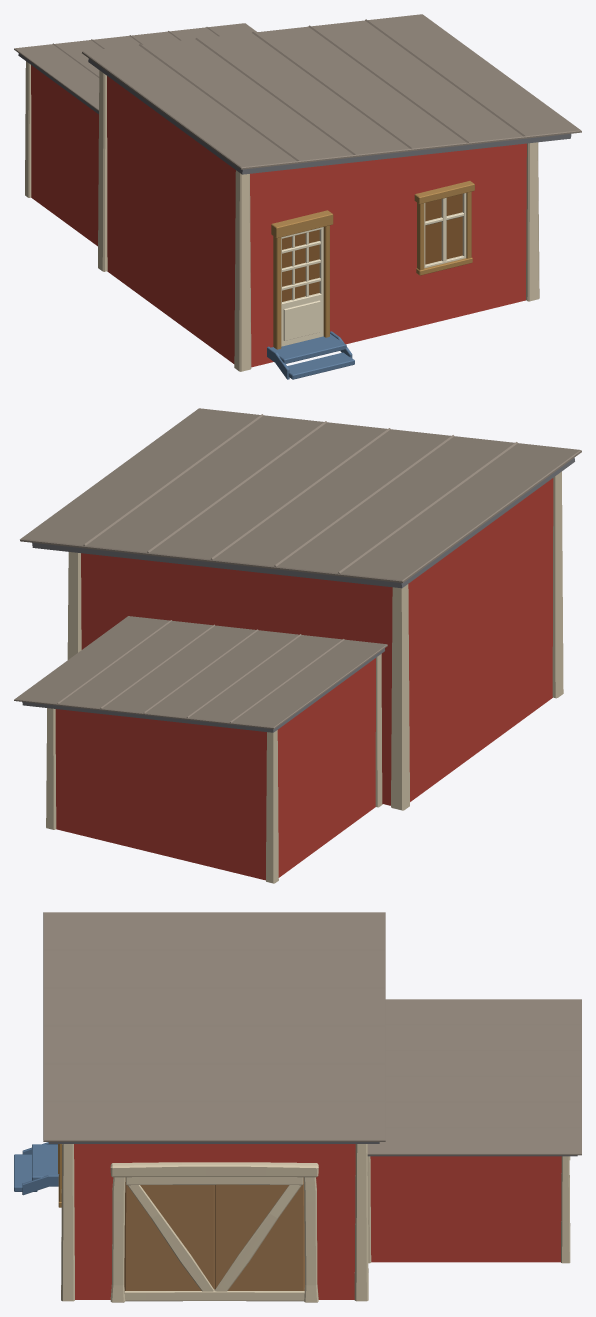
Rendered from garage_a02.gltf.
The picture shows the model from 3 angles, top to bottom: view 1: azimuth 30°, elevation 25°; view 2: azimuth 150°, elevation 25°; view 3: azimuth 270°, elevation 25°; orthographic projection. The views are drawn at different scales.
Parts seen in each view (by area): view 1: Box1991, Shape037, Box1998, Box1992, Plane074, garage_a02_001, Shape036, Box1994; view 2: Box1991, Shape037, Box1998, Shape036; view 3: Shape037, Box1991, Box1998, garage_a02_001, Box1994, Shape036.
Boxes of the visible parts, x1,y1,x2,y2 form: Box1991: (31, 65, 526, 367); Shape037: (14, 14, 581, 169); Box1998: (25, 61, 539, 371); Box1992: (271, 181, 474, 349); Plane074: (281, 193, 466, 346); garage_a02_001: (282, 194, 462, 301); Shape036: (18, 53, 571, 174); Box1994: (267, 331, 354, 379); Box1991: (55, 478, 553, 880); Shape037: (14, 408, 581, 729); Box1998: (46, 471, 563, 883); Shape036: (22, 458, 574, 732); Shape037: (43, 912, 581, 1155); Box1991: (74, 1144, 561, 1299); Box1998: (61, 1144, 570, 1302); garage_a02_001: (124, 1177, 304, 1290); Box1994: (14, 1142, 59, 1195); Shape036: (48, 1142, 577, 1156).
Bounding box in the file's own units: 7.57 × 4.54 × 10.16.
Materials: 1 (1 with a texture image).
